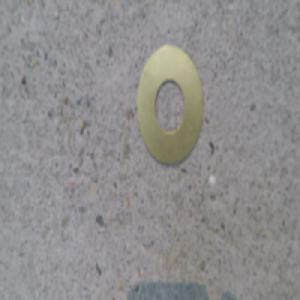Washer: (138, 47, 204, 172)
